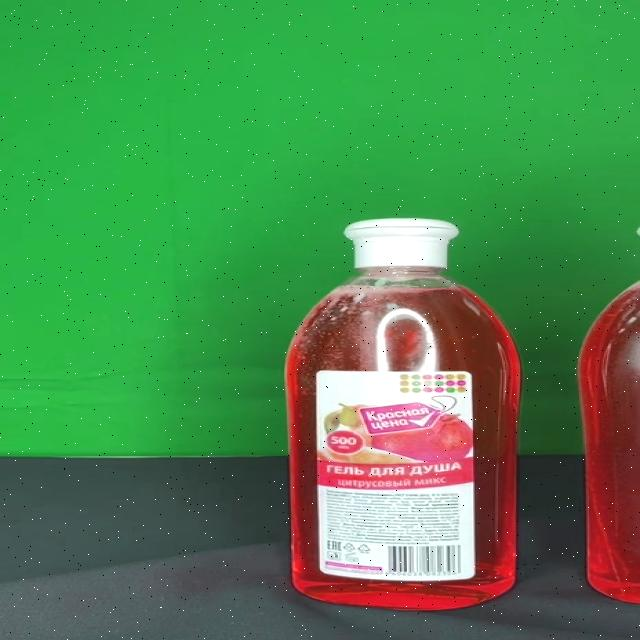Bottle: (284, 216, 523, 610)
Cap: (344, 217, 464, 268)
